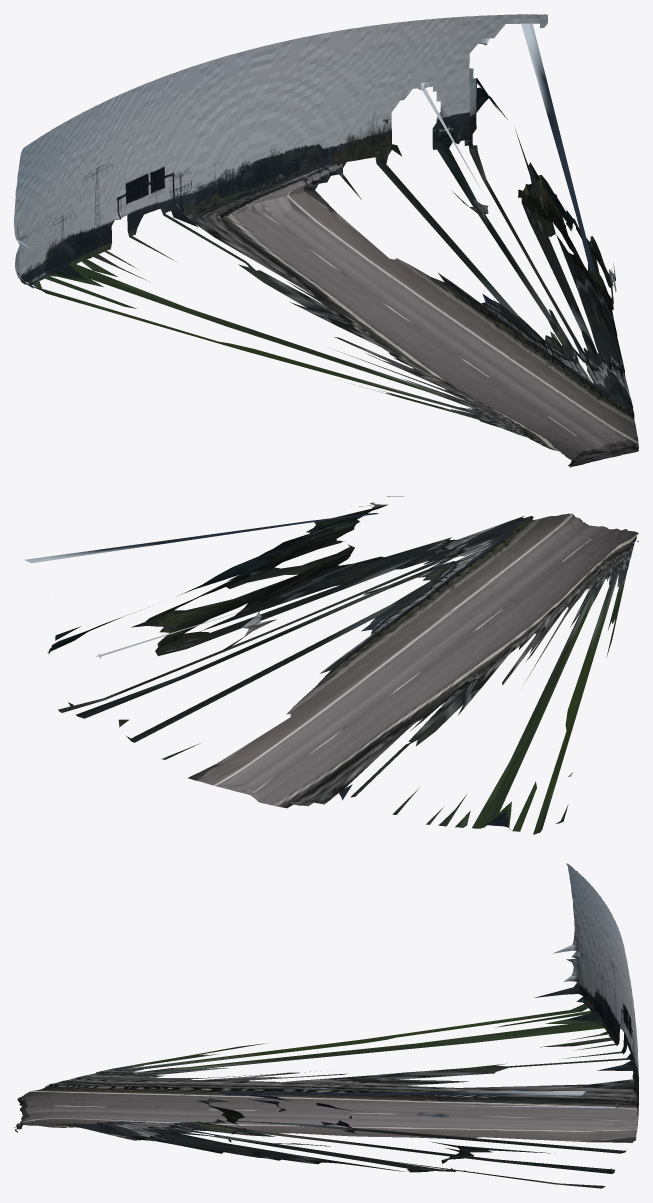
The picture shows the model from 3 angles, top to bottom: view 1: azimuth 30°, elevation 25°; view 2: azimuth 150°, elevation 25°; view 3: azimuth 270°, elevation 25°; orthographic projection. The views are drawn at different scales.
Visible parts, largest first — view 1: defaultobject; view 2: defaultobject; view 3: defaultobject.
Part boxes in pixels (box(x1,y1,x2,y2)): defaultobject: box(14, 14, 638, 467); defaultobject: box(24, 496, 638, 834); defaultobject: box(14, 863, 638, 1188).
Size of the model in its own units: 39.33 by 11.71 by 44.59.
Materials: 1 (1 with a texture image).
